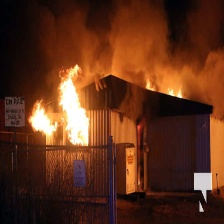fire: (55, 65, 90, 147), (27, 102, 58, 137), (142, 80, 184, 98)
smoke: (31, 2, 224, 83)
